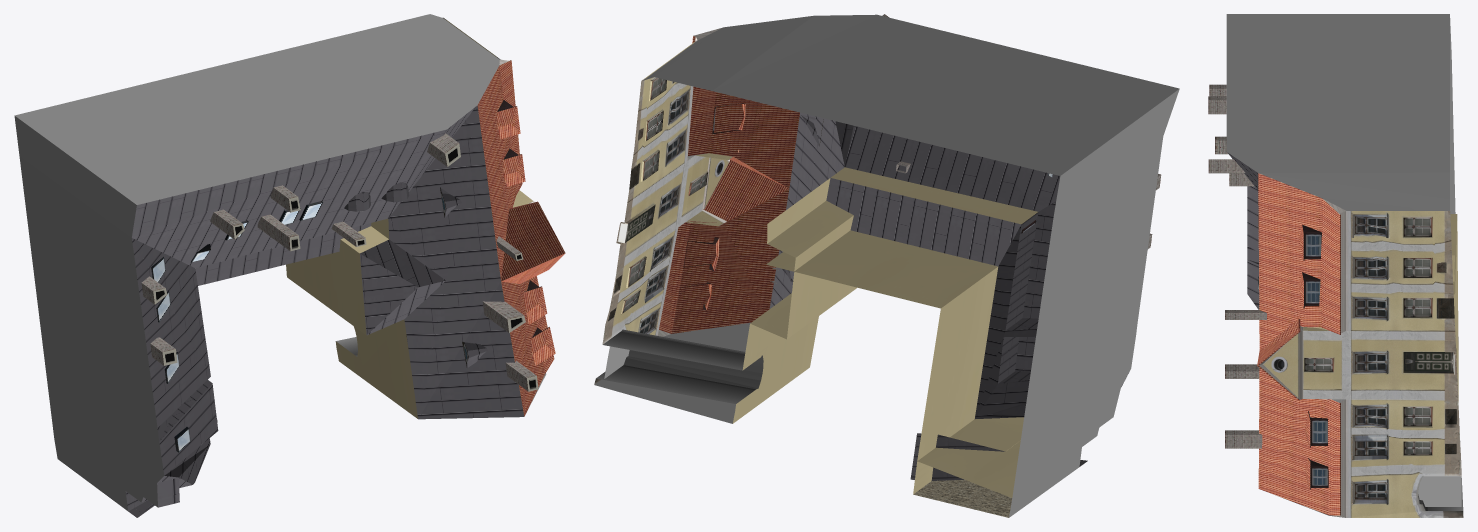
The model's file is Toom-Kooli_7-origo.obj.
The picture shows the model from 3 angles, left to right: view 1: azimuth 30°, elevation 25°; view 2: azimuth 150°, elevation 25°; view 3: azimuth 270°, elevation 25°; orthographic projection. The views are drawn at different scales.
Visible parts, largest first — view 1: Toom_Kooli_7; view 2: Toom_Kooli_7; view 3: Toom_Kooli_7.
Part boxes in pixels (bbox=[...]): Toom_Kooli_7: bbox=[14, 14, 565, 517]; Toom_Kooli_7: bbox=[594, 14, 1179, 517]; Toom_Kooli_7: bbox=[1208, 14, 1463, 517].
Size of the model in its own units: 35.69 by 25.5 by 18.04.
